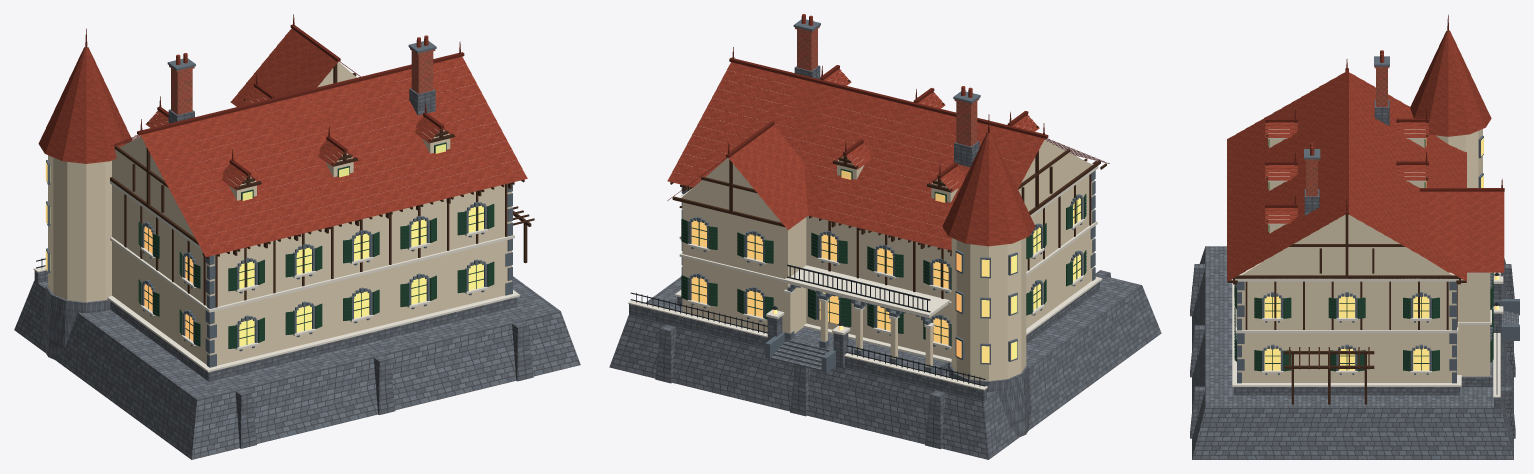
File: fv_ltk_01_ly_thuong_kiet_02_normandy_hill_manor.glb
3 renders of one model, left to right at view 1: azimuth 30°, elevation 25°; view 2: azimuth 150°, elevation 25°; view 3: azimuth 270°, elevation 25°, orthographic. The views are drawn at different scales.
Visible parts, largest first — view 1: Normandy_Brittany_Layered_Roof, Foundation_Skirt_Neg3p5m, Villa_Stucco_Walls, PineGreen_Louvered_Shutters, Molded_Cornices_And_Sills, Stone_Quoins_And_Arches, Exposed_Timber_Trusses_And_Rafters, Warm_Night_Windows_20h00_Blend, Roof_Ridges_Caps_And_Finials, Brick_Chimney_Stacks; view 2: Foundation_Skirt_Neg3p5m, Normandy_Brittany_Layered_Roof, Villa_Stucco_Walls, Molded_Cornices_And_Sills, Stone_Quoins_And_Arches, PineGreen_Louvered_Shutters, Warm_Night_Windows_20h00_Blend, Exposed_Timber_Trusses_And_Rafters, Roof_Ridges_Caps_And_Finials, Wrought_Iron_Balustrades_And_Gate, Brick_Chimney_Stacks; view 3: Normandy_Brittany_Layered_Roof, Foundation_Skirt_Neg3p5m, Villa_Stucco_Walls, Molded_Cornices_And_Sills, Exposed_Timber_Trusses_And_Rafters, Stone_Quoins_And_Arches, PineGreen_Louvered_Shutters, Warm_Night_Windows_20h00_Blend, Roof_Ridges_Caps_And_Finials, Brick_Chimney_Stacks.
Boxes of the visible parts, <box> form: Normandy_Brittany_Layered_Roof: <box>38,28,527,257</box>; Foundation_Skirt_Neg3p5m: <box>14,88,580,459</box>; Villa_Stucco_Walls: <box>48,62,511,365</box>; PineGreen_Louvered_Shutters: <box>138,142,494,348</box>; Molded_Cornices_And_Sills: <box>33,97,519,372</box>; Stone_Quoins_And_Arches: <box>46,41,512,367</box>; Exposed_Timber_Trusses_And_Rafters: <box>110,63,534,307</box>; Warm_Night_Windows_20h00_Blend: <box>45,144,483,346</box>; Roof_Ridges_Caps_And_Finials: <box>85,14,464,183</box>; Brick_Chimney_Stacks: <box>169,48,435,114</box>; Foundation_Skirt_Neg3p5m: <box>609,65,1161,459</box>; Normandy_Brittany_Layered_Roof: <box>667,14,1044,250</box>; Villa_Stucco_Walls: <box>681,95,1094,381</box>; Molded_Cornices_And_Sills: <box>628,79,1102,390</box>; Stone_Quoins_And_Arches: <box>681,19,1095,372</box>; PineGreen_Louvered_Shutters: <box>681,168,1086,346</box>; Warm_Night_Windows_20h00_Blend: <box>691,170,1080,363</box>; Exposed_Timber_Trusses_And_Rafters: <box>670,69,1106,298</box>; Roof_Ridges_Caps_And_Finials: <box>667,47,1109,200</box>; Wrought_Iron_Balustrades_And_Gate: <box>630,264,985,386</box>; Brick_Chimney_Stacks: <box>795,26,979,146</box>; Normandy_Brittany_Layered_Roof: <box>1227,31,1504,281</box>; Foundation_Skirt_Neg3p5m: <box>1190,99,1518,459</box>; Villa_Stucco_Walls: <box>1237,129,1490,382</box>; Molded_Cornices_And_Sills: <box>1232,129,1503,397</box>; Exposed_Timber_Trusses_And_Rafters: <box>1227,122,1466,404</box>; Stone_Quoins_And_Arches: <box>1235,56,1519,383</box>; PineGreen_Louvered_Shutters: <box>1234,138,1493,371</box>; Warm_Night_Windows_20h00_Blend: <box>1264,138,1499,370</box>; Roof_Ridges_Caps_And_Finials: <box>1265,14,1504,214</box>; Brick_Chimney_Stacks: <box>1305,66,1389,196</box>.
Bounding box in the file's own units: 28.51 × 21.63 × 22.32.
Materials: 12 (3 with a texture image).
